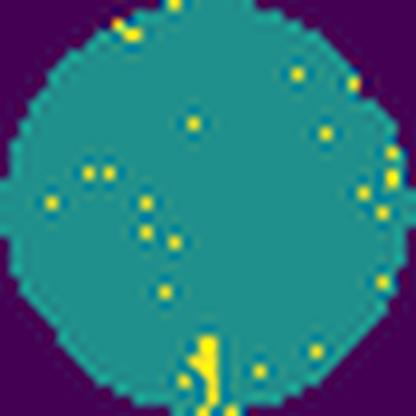Loc: (187, 336, 219, 416)
